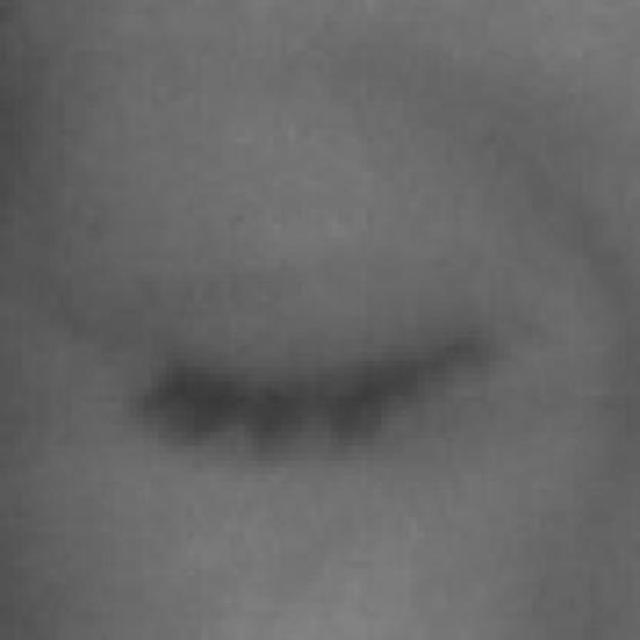drowsy: (133, 225, 509, 568)
